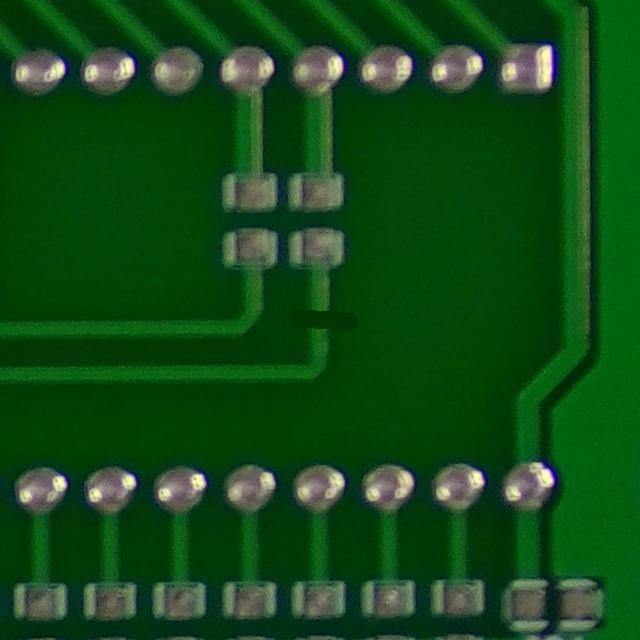open_circuit: (288, 302, 351, 338)
